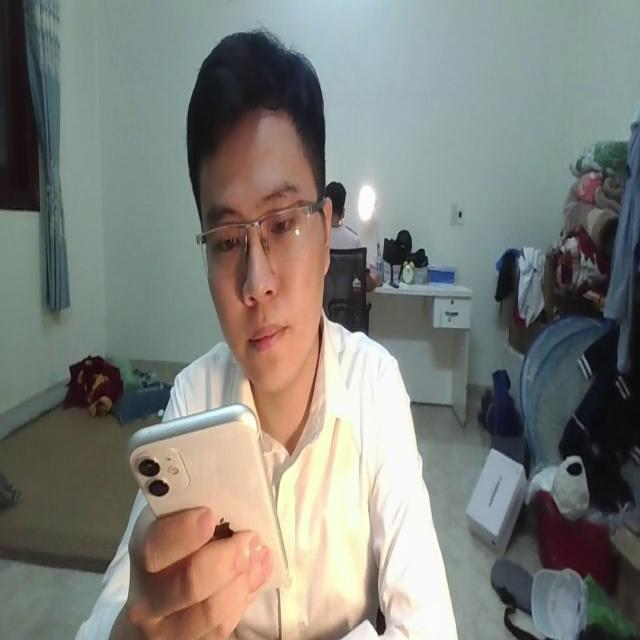phone: (122, 399, 292, 591)
student: (68, 19, 457, 640)
